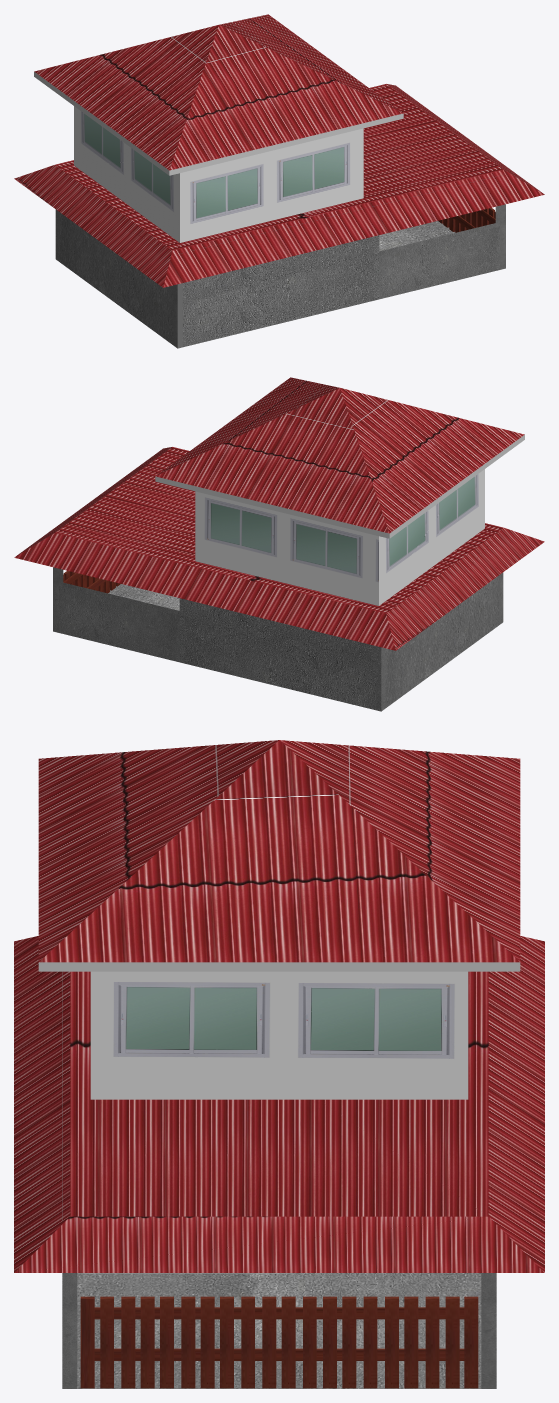
File: บ้านอันที่1.fbx
The picture shows the model from 3 angles, top to bottom: view 1: azimuth 30°, elevation 25°; view 2: azimuth 150°, elevation 25°; view 3: azimuth 270°, elevation 25°; orthographic projection. The views are drawn at different scales.
Parts seen in each view (by area): view 1: Plane.006, Plane.002, Plane, Plane.004, Plane.005, Cube.020; view 2: Plane.006, Plane.002, Plane, Plane.004, Plane.005, Cube.020; view 3: Plane.002, Plane.006, Plane.004, Cube.020, Plane, Plane.005.
Boxes of the visible parts, x1=… form: Plane.006: x1=34, y1=14, x2=403, y2=170; Plane.002: x1=14, y1=84, x2=544, y2=287; Plane: x1=55, y1=175, x2=505, y2=348; Plane.004: x1=74, y1=106, x2=363, y2=242; Plane.005: x1=34, y1=72, x2=403, y2=175; Cube.020: x1=438, y1=207, x2=495, y2=232; Plane.006: x1=155, y1=377, x2=524, y2=533; Plane.002: x1=14, y1=447, x2=544, y2=650; Plane: x1=53, y1=567, x2=503, y2=711; Plane.004: x1=195, y1=469, x2=484, y2=605; Plane.005: x1=155, y1=435, x2=524, y2=538; Cube.020: x1=63, y1=570, x2=120, y2=593; Plane.002: x1=14, y1=936, x2=544, y2=1272; Plane.006: x1=38, y1=740, x2=520, y2=962; Plane.004: x1=90, y1=971, x2=468, y2=1099; Cube.020: x1=80, y1=1296, x2=478, y2=1388; Plane: x1=62, y1=972, x2=496, y2=1388; Plane.005: x1=38, y1=962, x2=520, y2=971.
Bounding box in the file's own units: 4289 × 2729 × 2901.
Materials: 28 (28 with a texture image).
